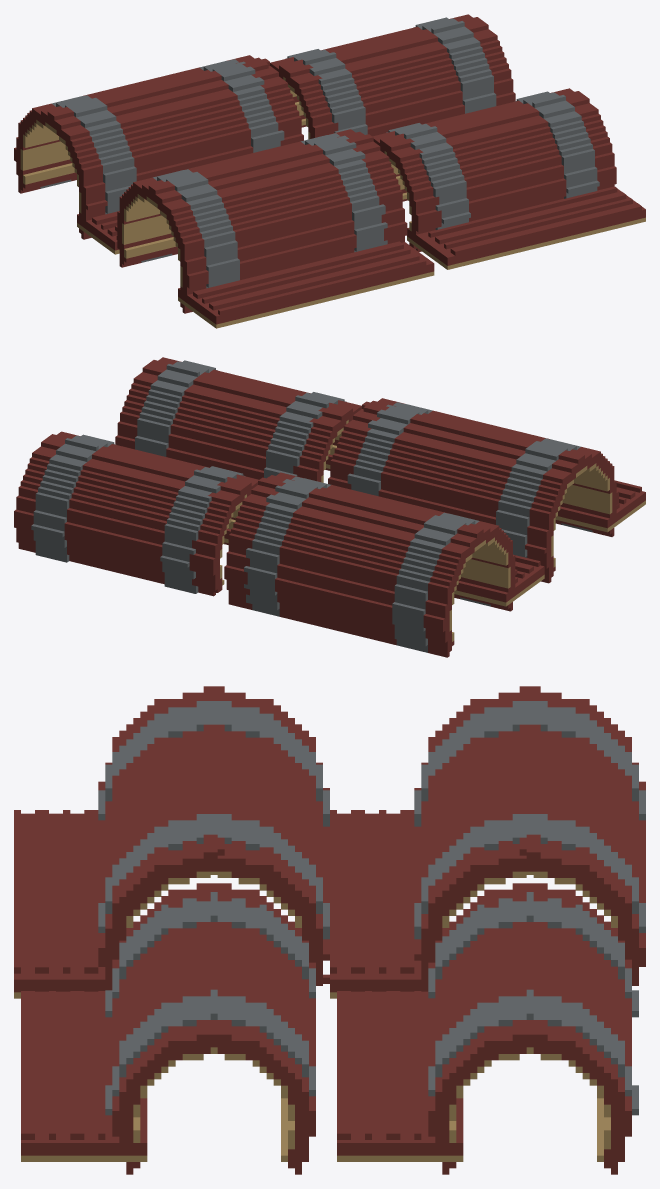
The model's file is carpet_armguards.glb.
3 views of the same model, one above another, from view 1: azimuth 30°, elevation 25°; view 2: azimuth 150°, elevation 25°; view 3: azimuth 270°, elevation 25° (orthographic). The views are drawn at different scales.
Visible parts, largest first — view 1: carpet_armguards:compound; view 2: carpet_armguards:compound; view 3: carpet_armguards:compound.
Boxes of the visible parts, x1=… form: carpet_armguards:compound: x1=14, y1=14, x2=645, y2=328; carpet_armguards:compound: x1=14, y1=357, x2=645, y2=657; carpet_armguards:compound: x1=14, y1=686, x2=645, y2=1174.
Size of the model in its own units: 0.444 by 0.1 by 0.36.
